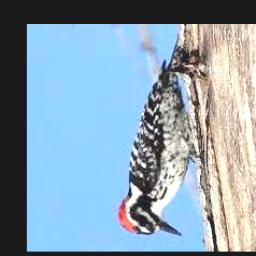Woodpecker: (117, 50, 196, 236)
